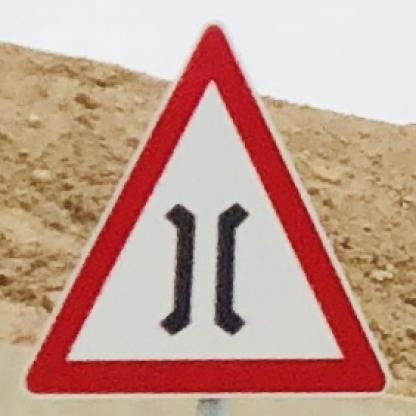Bridge Ahead: (12, 16, 400, 401)
